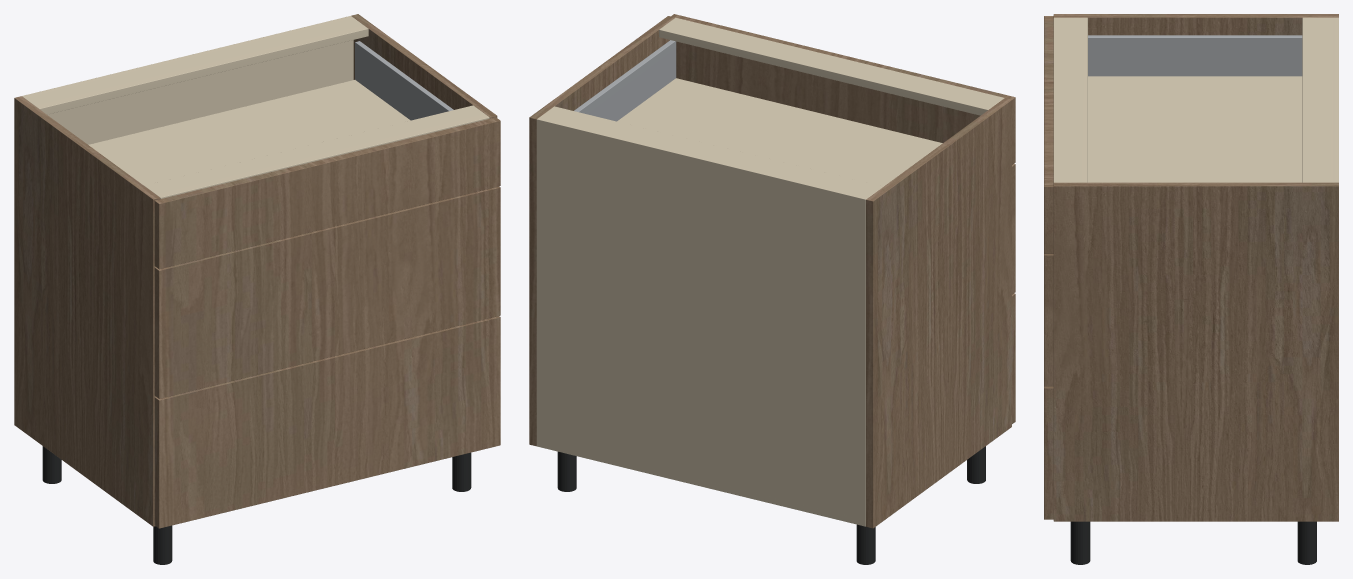
File: oppein-ply-mnw-3db33.glb
The picture shows the model from 3 angles, left to right: view 1: azimuth 30°, elevation 25°; view 2: azimuth 150°, elevation 25°; view 3: azimuth 270°, elevation 25°; orthographic projection. The views are drawn at different scales.
Parts seen in each view (by area): view 1: Cabinet side, Drawer front, Drawer front.001, Drawer front.002, Drawer floor.002, Cabinet back, Top support rail, Top support rail.001, Drawer side.005, Cabinet side.001, Adjustable foot.001, Adjustable foot.003 (+1 smaller); view 2: Cabinet back, Cabinet side, Drawer floor.002, Drawer front.002, Top support rail.001, Cabinet side.001, Top support rail, Drawer side.005, Adjustable foot, Adjustable foot.002; view 3: Cabinet side.001, Drawer floor.002, Drawer side.004, Top support rail.001, Top support rail, Cabinet side, Drawer front.002, Drawer front, Drawer front.001, Cabinet back, Adjustable foot.003, Adjustable foot.002.
Part boxes in pixels (x1,y1,x2,y2): Cabinet side: (14, 96, 160, 526); Drawer front: (154, 316, 500, 528); Drawer front.001: (154, 186, 500, 398); Drawer front.002: (154, 117, 500, 269); Drawer floor.002: (88, 80, 410, 185); Cabinet back: (22, 16, 353, 144); Top support rail: (24, 17, 368, 114); Top support rail.001: (144, 105, 489, 198); Drawer side.005: (355, 41, 453, 120); Cabinet side.001: (351, 14, 497, 118); Adjustable foot.001: (153, 525, 172, 564); Adjustable foot.003: (452, 452, 471, 491); Cabinet back: (536, 117, 867, 526); Cabinet side: (866, 98, 1011, 528); Drawer floor.002: (617, 78, 942, 186); Drawer front.002: (671, 14, 1015, 164); Top support rail.001: (659, 17, 1004, 115); Cabinet side.001: (529, 16, 674, 446); Top support rail: (540, 106, 883, 198); Drawer side.005: (574, 40, 676, 121); Adjustable foot: (856, 524, 875, 564); Adjustable foot.002: (557, 451, 576, 491); Cabinet side.001: (1053, 182, 1338, 521); Drawer floor.002: (1088, 76, 1302, 182); Drawer side.004: (1088, 35, 1302, 76); Top support rail.001: (1053, 17, 1087, 182); Top support rail: (1302, 17, 1333, 182); Cabinet side: (1053, 14, 1338, 35); Drawer front.002: (1044, 16, 1053, 253); Drawer front: (1044, 386, 1053, 519); Drawer front.001: (1044, 254, 1053, 386); Cabinet back: (1333, 17, 1338, 182); Adjustable foot.003: (1070, 521, 1090, 564); Adjustable foot.002: (1297, 521, 1316, 564).
Bounding box in the file's own units: 0.8382 × 0.8763 × 0.6064.
Materials: 4 (1 with a texture image).
